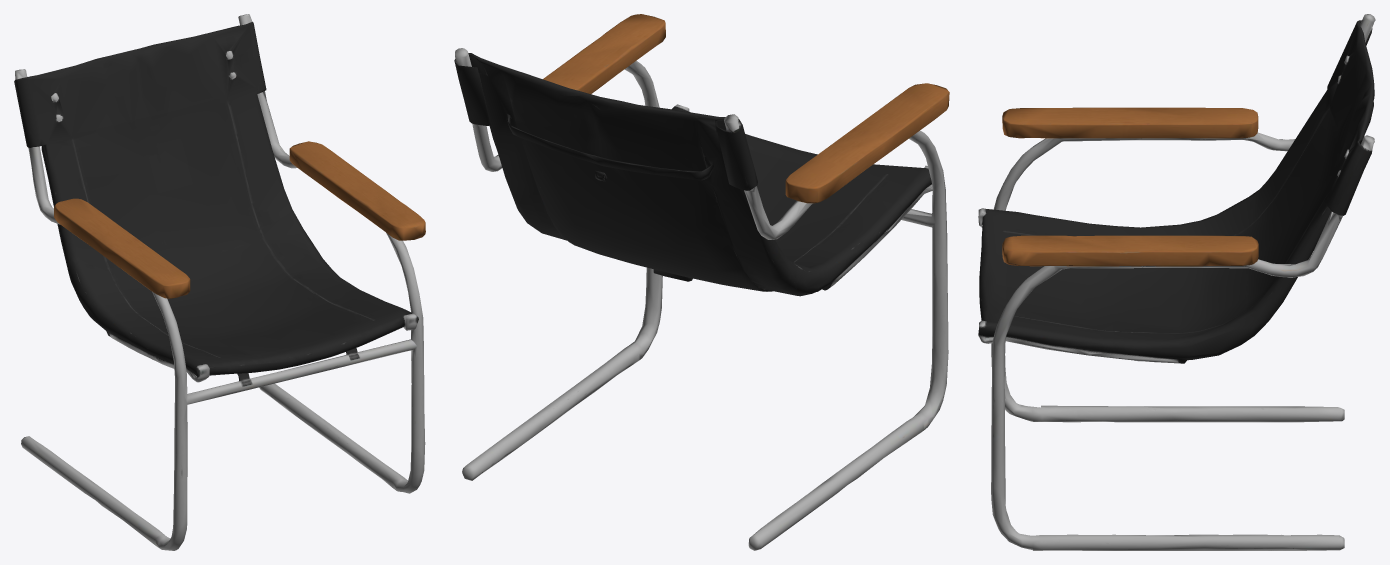
File: bauhaus-tubular-armchair.glb
3 renders of one model, left to right at view 1: azimuth 30°, elevation 25°; view 2: azimuth 150°, elevation 25°; view 3: azimuth 270°, elevation 25°, orthographic. The views are drawn at different scales.
Visible parts, largest first — view 1: world; view 2: world; view 3: world.
Boxes of the visible parts, bbox=[...] form: world: bbox=[14, 14, 425, 550]; world: bbox=[454, 14, 949, 550]; world: bbox=[978, 14, 1375, 550].
Bounding box in the file's own units: 0.62 × 0.82 × 0.72.
1 material, 1 textured.
